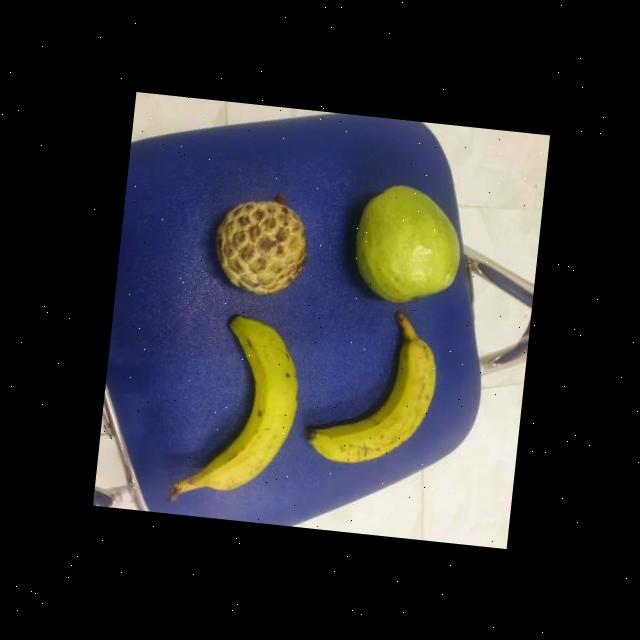Sakya fruit: (210, 186, 311, 298)
banana: (304, 297, 441, 473), (182, 303, 306, 496)
guava: (345, 178, 469, 306)
